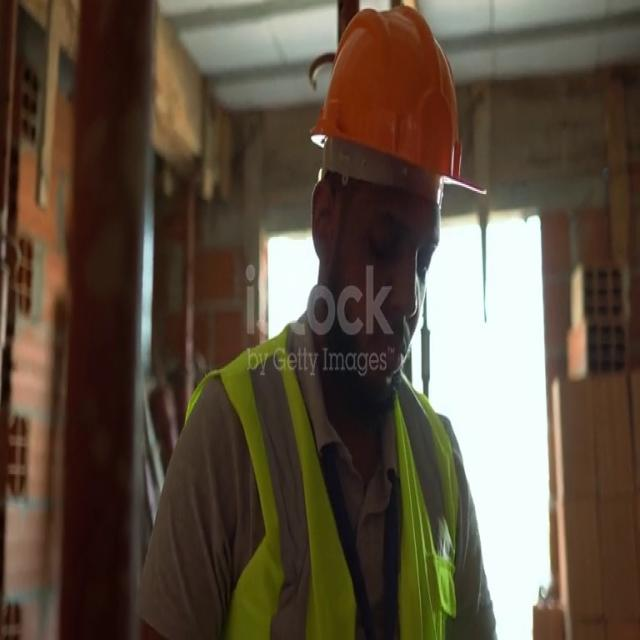capacete: (299, 9, 496, 268)
